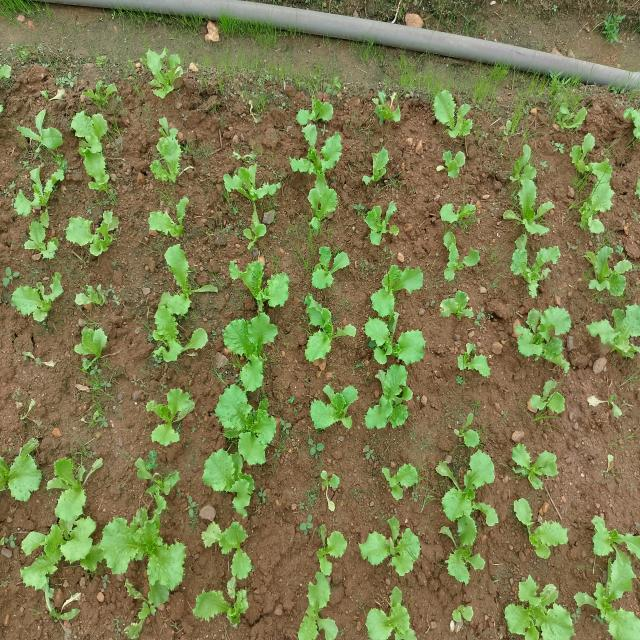Lettuce: (98, 505, 188, 614), (212, 372, 278, 467), (432, 449, 500, 538), (219, 298, 282, 391), (18, 526, 78, 622), (512, 301, 586, 378), (44, 452, 108, 535), (505, 567, 577, 640), (356, 516, 426, 578), (591, 507, 640, 595), (154, 294, 209, 368), (203, 448, 257, 521), (573, 582, 640, 639), (210, 160, 282, 213), (364, 366, 422, 431), (142, 385, 198, 452), (505, 239, 564, 301), (504, 437, 566, 496), (228, 255, 290, 313), (366, 261, 426, 320), (156, 242, 215, 302), (514, 494, 568, 559), (499, 180, 557, 240), (0, 436, 50, 505), (303, 293, 355, 359), (587, 300, 640, 363), (8, 271, 67, 327), (198, 519, 250, 582), (294, 572, 342, 640), (65, 206, 125, 260), (287, 127, 348, 180), (16, 108, 70, 166), (362, 320, 429, 366), (198, 575, 256, 628), (125, 450, 178, 508), (369, 579, 419, 640), (149, 113, 189, 188), (443, 511, 484, 584), (138, 45, 189, 100), (15, 156, 62, 215), (520, 376, 572, 428), (146, 194, 201, 243), (357, 197, 408, 248), (301, 243, 352, 293), (429, 92, 478, 142), (12, 215, 64, 262), (310, 381, 358, 431), (587, 244, 631, 297), (73, 321, 119, 371), (573, 134, 616, 187), (300, 182, 341, 237), (70, 110, 116, 158), (375, 460, 421, 506), (443, 232, 480, 287), (360, 146, 404, 192), (580, 174, 611, 236), (456, 340, 493, 382), (294, 96, 338, 131), (317, 522, 346, 574), (512, 139, 540, 182), (368, 93, 404, 126), (438, 288, 474, 320), (454, 408, 482, 449), (437, 199, 474, 226), (557, 100, 588, 131), (434, 150, 464, 182), (242, 216, 267, 252), (453, 600, 478, 628), (572, 132, 573, 134)
